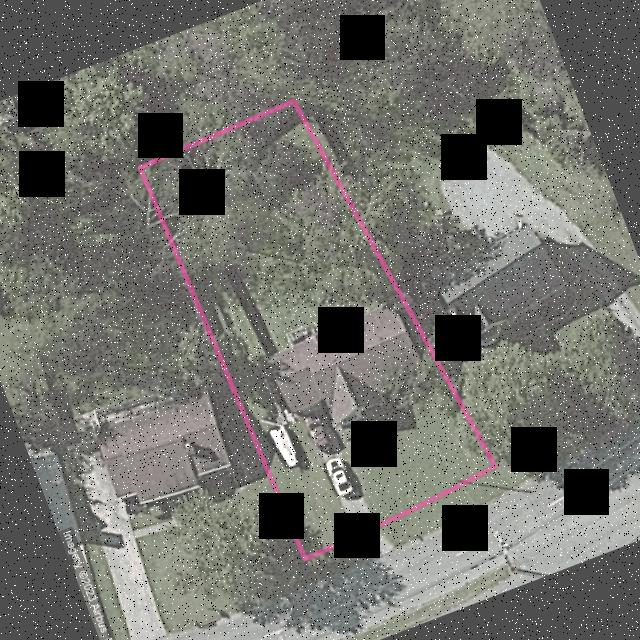Driveway: (304, 411, 375, 533)
Extra Driveway: (361, 528, 392, 555)
Extra Lawn: (378, 466, 510, 546)
House: (265, 300, 424, 431)
Other: (286, 320, 334, 342)
